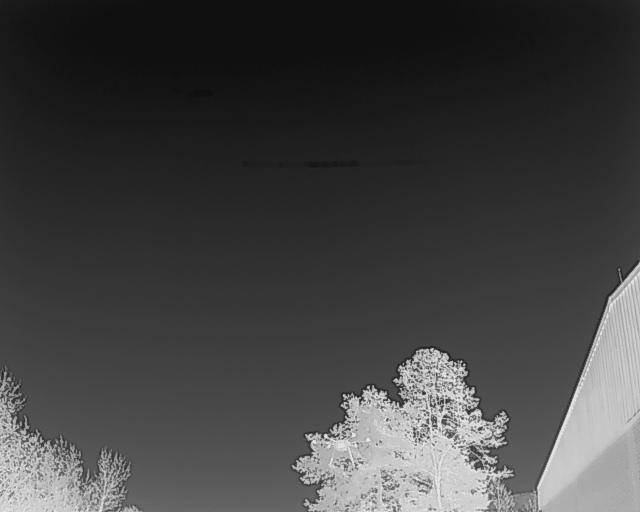drone: (309, 429, 376, 474)
